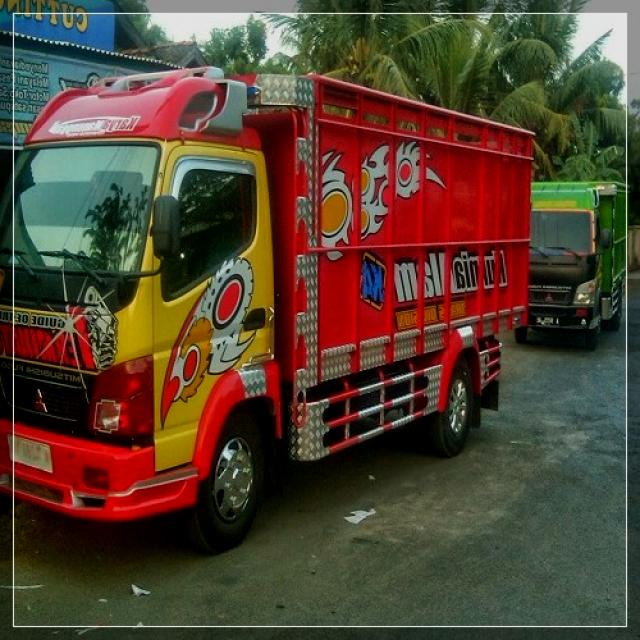truck: (1, 61, 530, 537), (509, 178, 627, 354)
